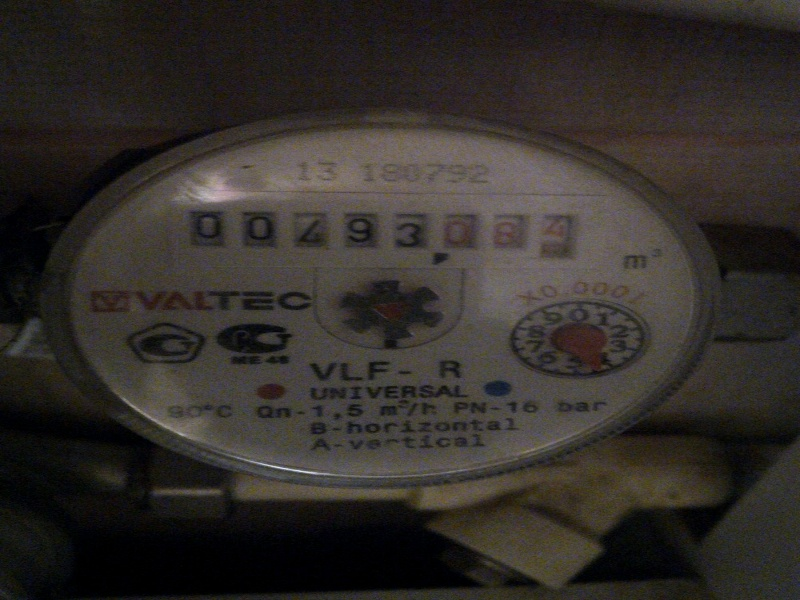meter: (165, 188, 624, 272)
